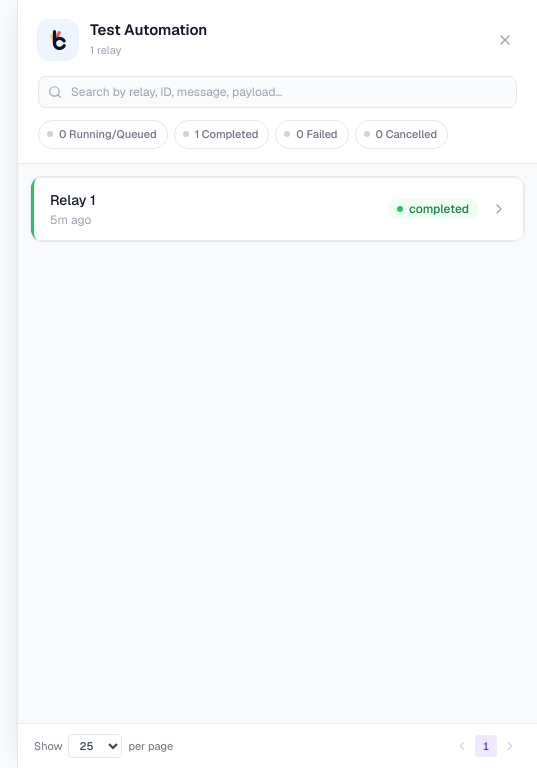
Scenario: ActionLogsSidebar › shows "no matches" when filter yields no results
Click the button "0 Failed" at (312, 134), box [275,120,349,148]
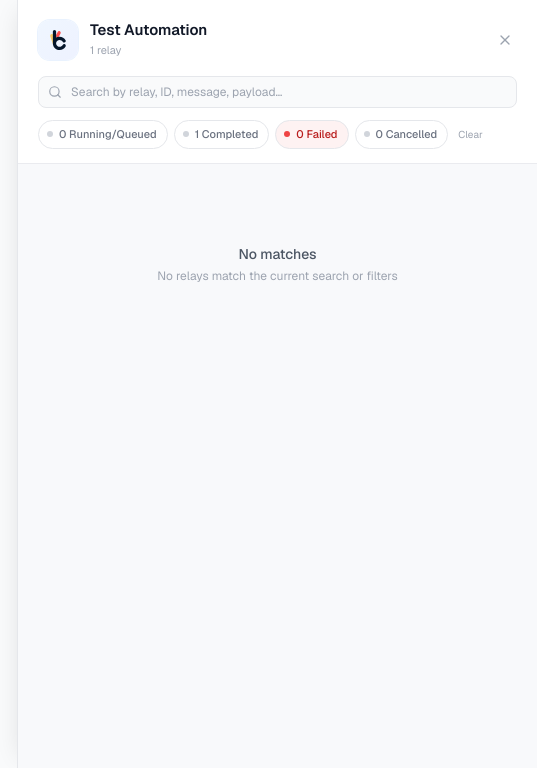
Expected: the text "No matches" is shown, [238,244,317,264]
